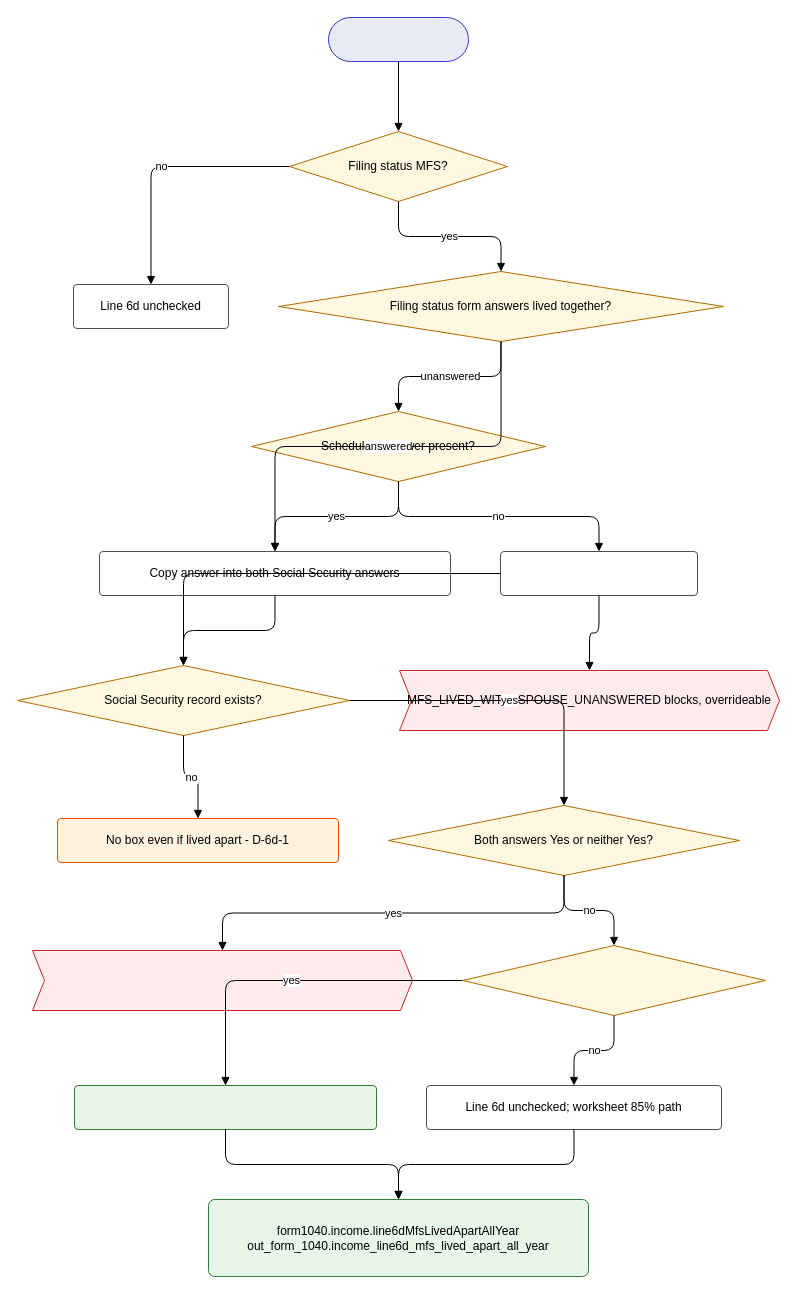
Image size: 797x1294. Some labels were removed from this diagram. Each missing label, with the box of its shape:
Compute return: (328, 16, 468, 62)
Line 6d checked; worksheet base 25,000: (74, 1084, 376, 1130)
Lived apart all year = Yes?: (462, 944, 766, 1016)
SOCIAL_SECURITY_LINE6D_MFS_RESIDENCE_INCONSISTENT blocks: (32, 950, 412, 1010)
Treat as lived together: (500, 550, 698, 596)
